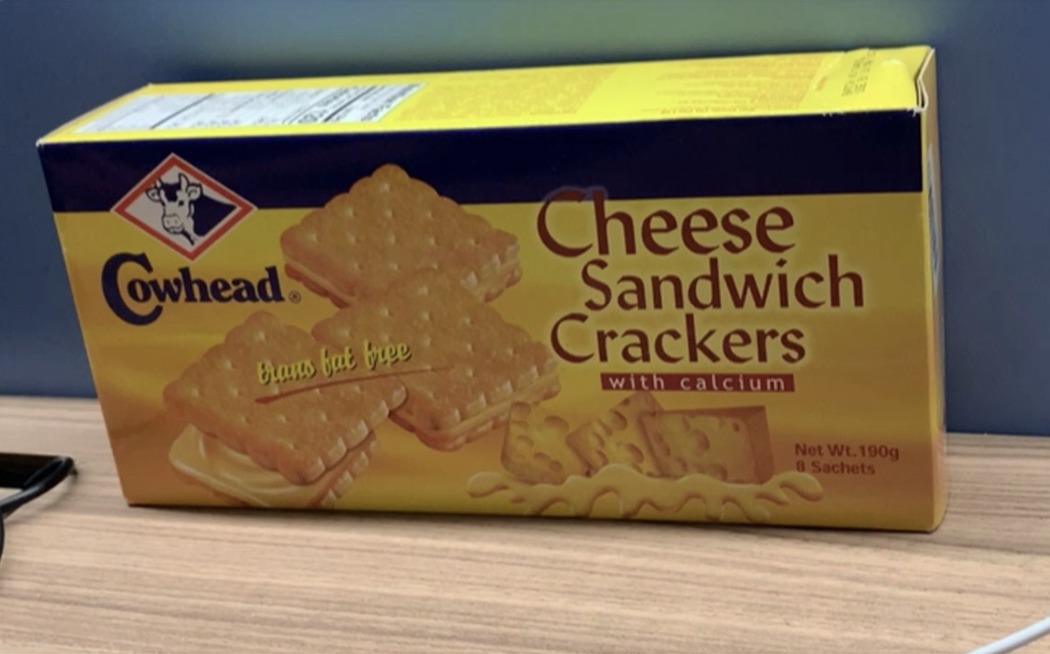crackers_100g-199g: (107, 149, 914, 503)
